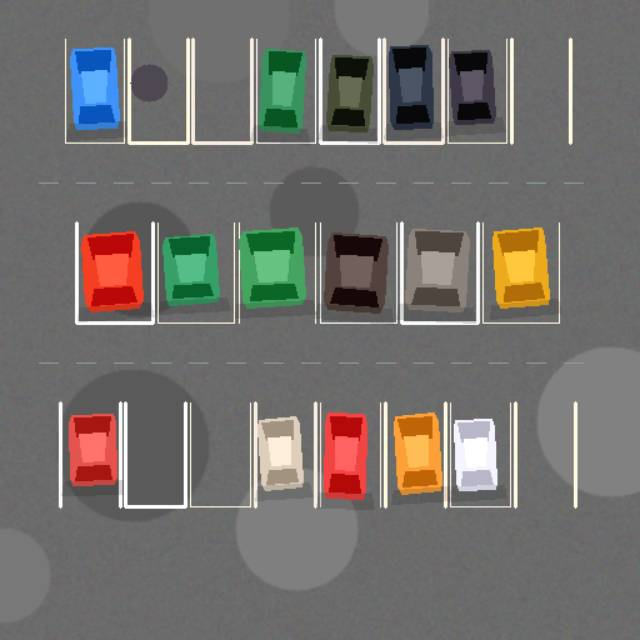space-empty: (125, 403, 185, 506), (190, 403, 250, 506), (515, 403, 575, 506), (511, 39, 570, 143), (129, 39, 187, 143), (193, 39, 251, 143)
space-occupied: (76, 222, 153, 322), (157, 222, 234, 322), (239, 222, 315, 322), (320, 222, 396, 322), (401, 222, 477, 322), (483, 222, 559, 322), (60, 403, 120, 506), (255, 403, 315, 506), (320, 403, 380, 506), (385, 403, 445, 506), (450, 403, 510, 506), (65, 39, 124, 143), (256, 39, 315, 143), (320, 39, 379, 143), (384, 39, 443, 143), (447, 39, 506, 143)
